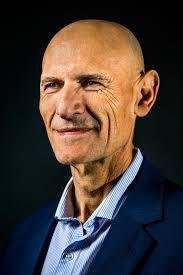face: (40, 27, 134, 163)
